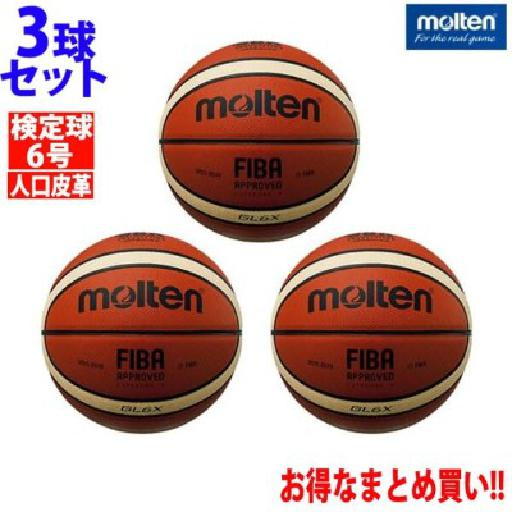ball: (161, 41, 359, 240)
